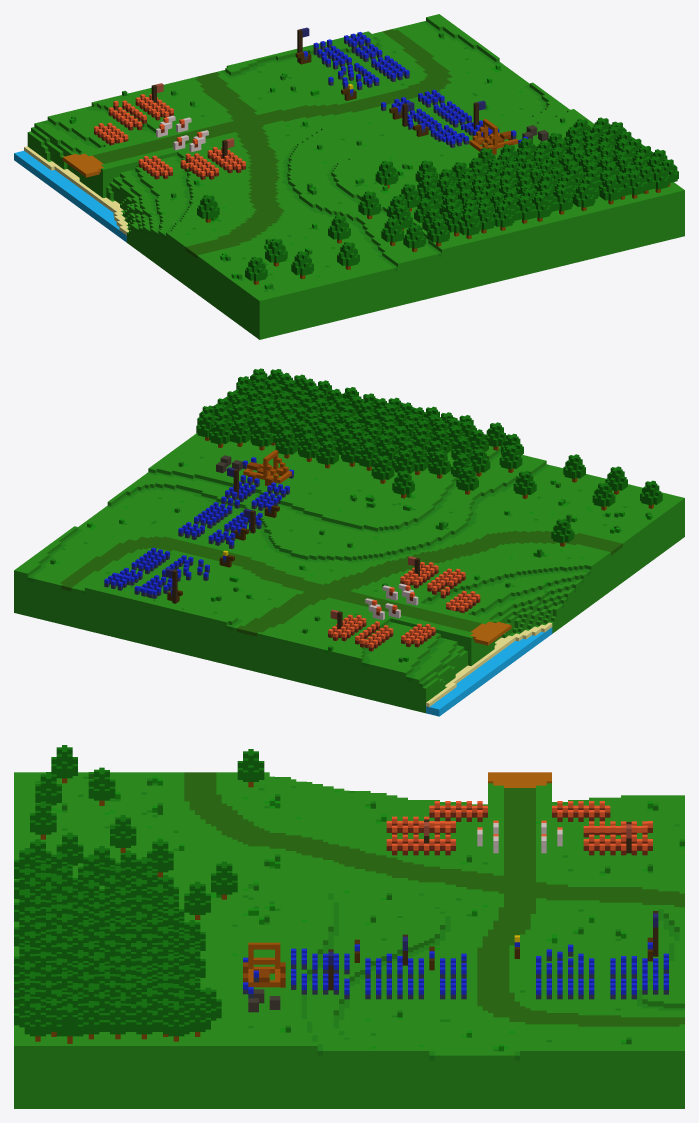
The model's file is castle-3.obj.
3 renders of one model, top to bottom at view 1: azimuth 30°, elevation 25°; view 2: azimuth 150°, elevation 25°; view 3: azimuth 270°, elevation 25°, orthographic. The views are drawn at different scales.
Size of the model in its own units: 12.6 by 2 by 12.6.
1 material, 1 textured.
